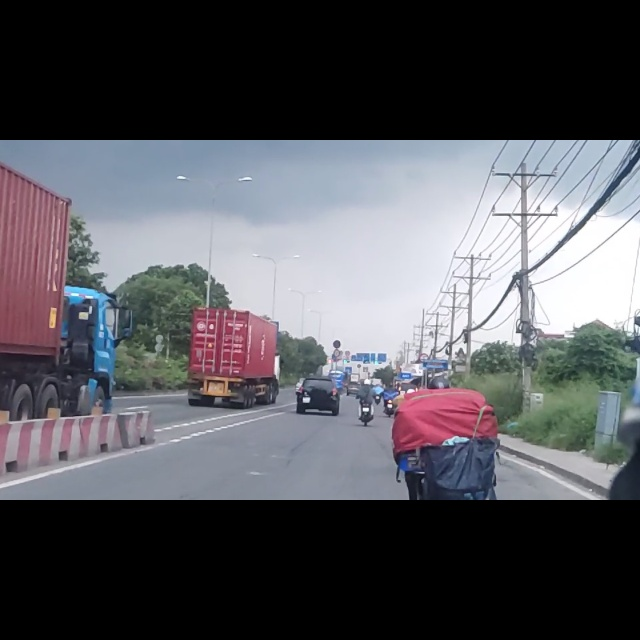bien_chi_dan: (332, 356, 342, 371)
